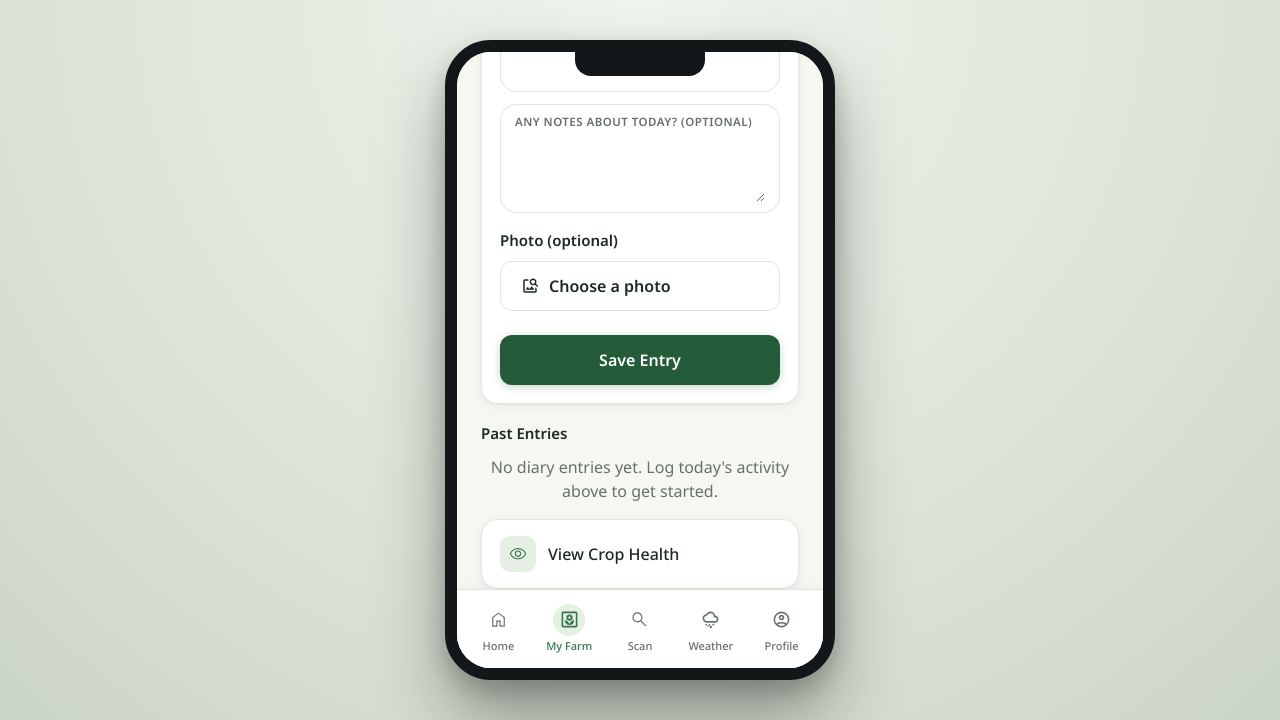
Test case: CropDetailPage › Daily Log › shows a validation error from the backend instead of a generic message
(page scrolled)
Click the button "Save Entry" at (640, 360), box [500,335,780,385]
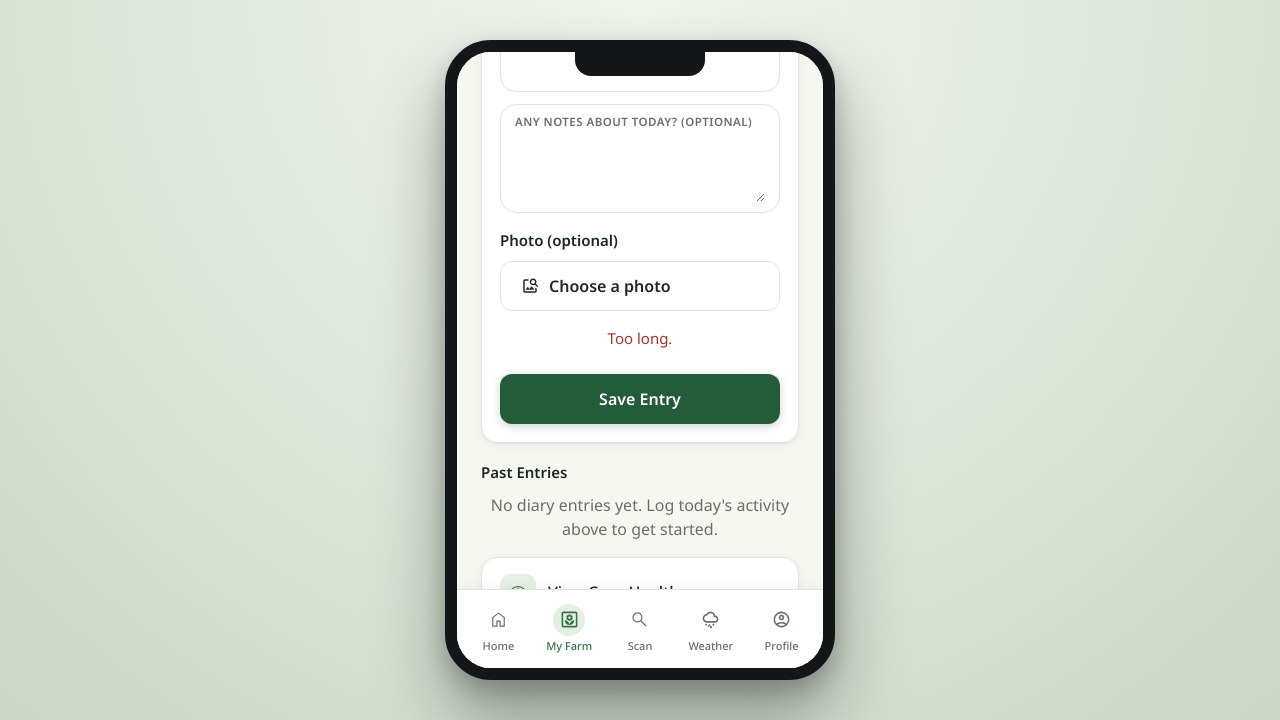
Result: the message reads "Too long." at [608,328,672,348]
